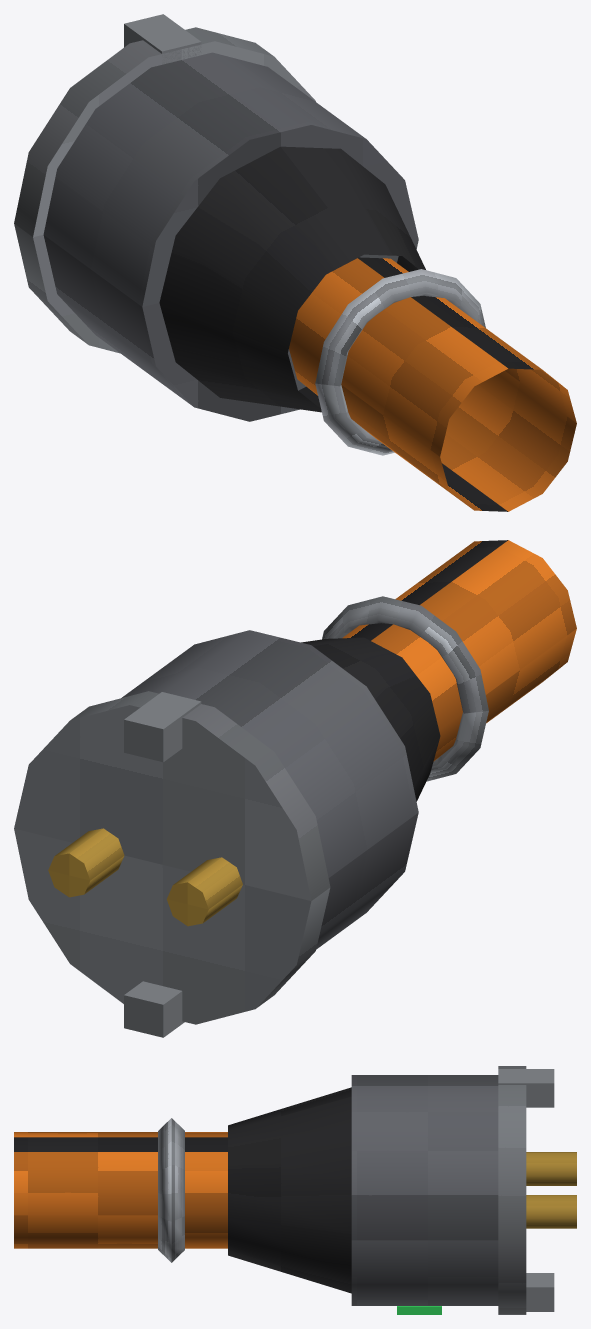
File: power_cable_plug.obj
The picture shows the model from 3 angles, top to bottom: view 1: azimuth 30°, elevation 25°; view 2: azimuth 150°, elevation 25°; view 3: azimuth 270°, elevation 25°; orthographic projection. The views are drawn at different scales.
Bounding box in the file's own units: 0.226 × 0.224 × 0.5.
